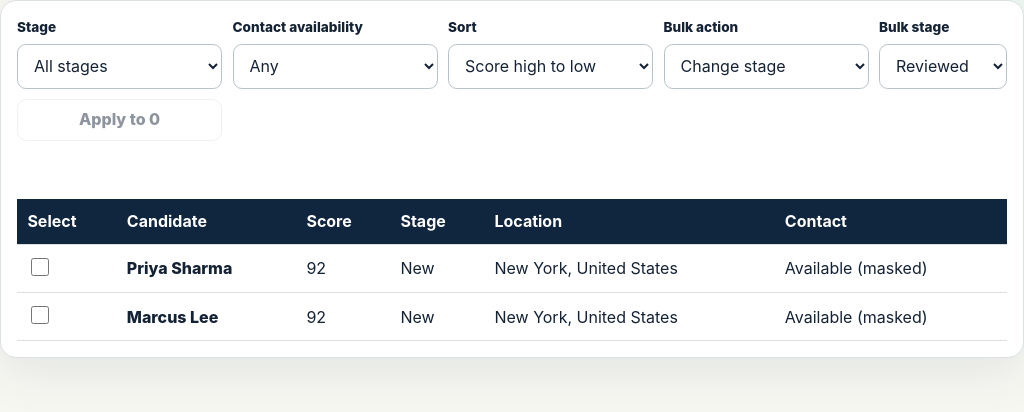
Test: CandidateTable › reports bounded fan-out results without claiming atomicity
This screenshot has width=1024, height=412.
What coordinates should you click on to do the following:
click the checkbox named "Select Priya Sharma"
I would click on:
 (40, 267)
Its box is left=31, top=258, right=49, bottom=276.
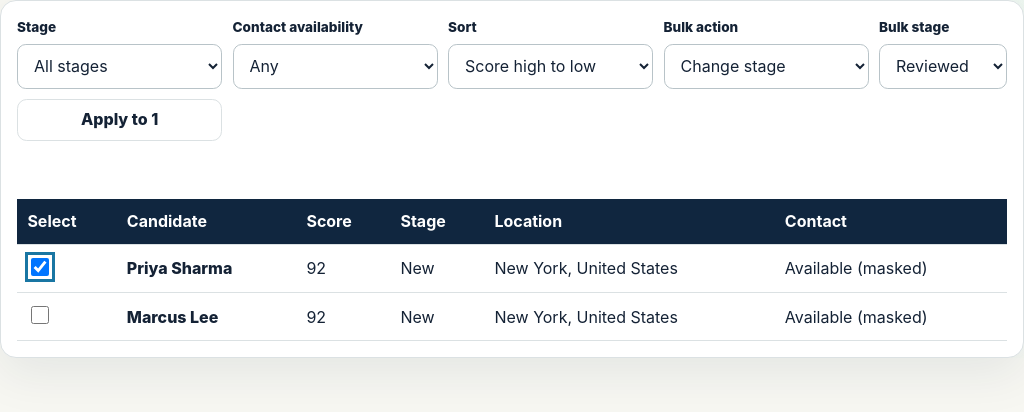
What coordinates should you click on to do the following:
click the checkbox named "Select Marcus Lee"
I would click on:
 (40, 315)
Its box is left=31, top=306, right=49, bottom=324.
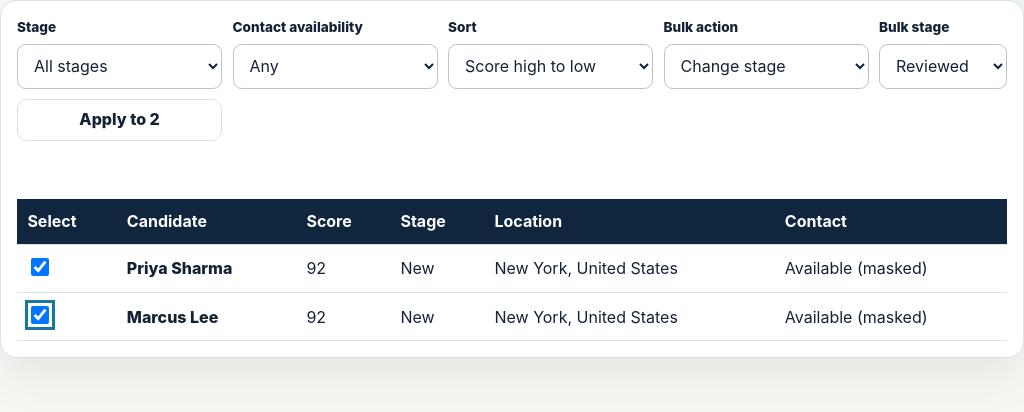
What coordinates should you click on to do the following:
click the button "Apply to 2"
I would click on:
 (120, 120)
Its box is left=17, top=99, right=222, bottom=141.
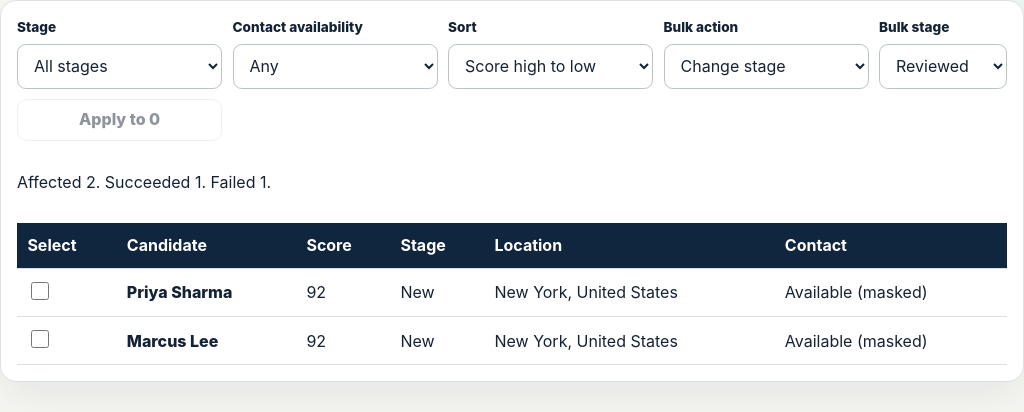
Result: the text "Affected 2. Succeeded 1. Failed 1." is shown at left=17, top=172, right=271, bottom=192
